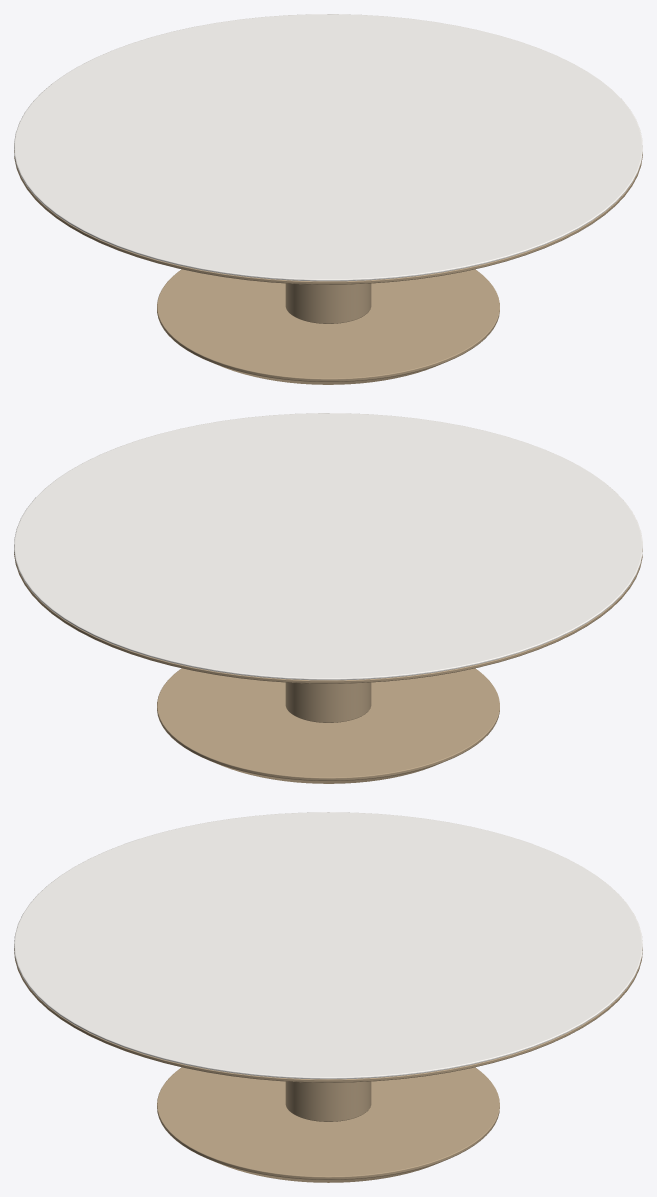
The model's file is orbit3d_d110h33.glb.
The picture shows the model from 3 angles, top to bottom: view 1: azimuth 30°, elevation 25°; view 2: azimuth 150°, elevation 25°; view 3: azimuth 270°, elevation 25°; orthographic projection.
Visible parts, largest first — view 1: Top Orbit Coffee Table 019, Base Orbit Coffee Table 019, Base Element Orbit Coffee Table 022, Undertop Orbit Coffee Table 019; view 2: Top Orbit Coffee Table 019, Base Orbit Coffee Table 019, Base Element Orbit Coffee Table 022, Undertop Orbit Coffee Table 019; view 3: Top Orbit Coffee Table 019, Base Orbit Coffee Table 019, Base Element Orbit Coffee Table 022, Undertop Orbit Coffee Table 019.
Boxes of the visible parts, x1,y1,x2,y2 form: Top Orbit Coffee Table 019: (14,14,642,281); Base Orbit Coffee Table 019: (157,269,499,384); Base Element Orbit Coffee Table 022: (285,283,371,323); Undertop Orbit Coffee Table 019: (14,150,642,284); Top Orbit Coffee Table 019: (14,413,642,680); Base Orbit Coffee Table 019: (157,668,499,783); Base Element Orbit Coffee Table 022: (285,682,371,722); Undertop Orbit Coffee Table 019: (14,549,642,683); Top Orbit Coffee Table 019: (14,812,642,1079); Base Orbit Coffee Table 019: (157,1067,499,1182); Base Element Orbit Coffee Table 022: (285,1081,371,1121); Undertop Orbit Coffee Table 019: (14,948,642,1082).
Size of the model in its own units: 1.1 by 0.334 by 1.1.
